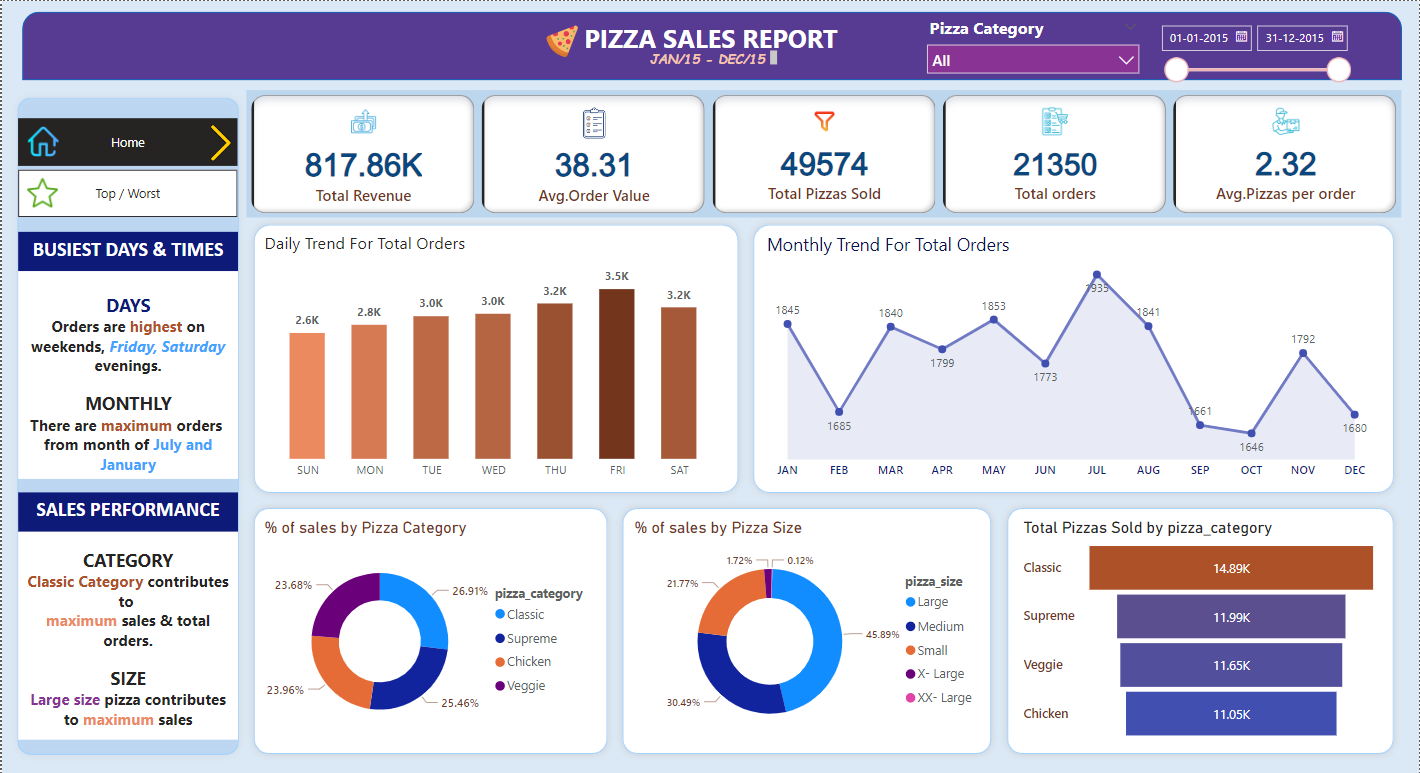

What the dashboard file says about the page in this screenshot:
{"tool":"powerbi","page":{"name":"Home","canvas":[1499,820],"ordinal":0},"visuals":[{"type":"cardVisual","fields":{"Data":["pizza_sales.Total Revenue","pizza_sales.Avg.Order Value","pizza_sales.Total Pizzas Sold","pizza_sales.Total orders","pizza_sales.Avg.Pizzas per order"]},"box":[258.8,93.8,1222.5,135],"z":0},{"type":"shape","box":[21.2,11.2,1460,72.5],"z":1000},{"type":"textbox","box":[591.2,15,317.5,50],"z":2000},{"type":"image","box":[565,20,53.8,45],"z":3000},{"type":"textbox","box":[673.8,47.5,151.2,26.2],"z":4000},{"type":"shape","box":[258.8,228.8,528.8,300],"z":5000},{"type":"columnChart","title":"Daily Trend For Total Orders","fields":{"Category":["pizza_sales.Order Day"],"Y":["pizza_sales.Total orders"]},"box":[272.5,243.8,495,270],"z":6000},{"type":"shape","box":[787.5,228.8,693.8,300],"z":7000},{"type":"areaChart","title":"Monthly Trend For Total Orders","fields":{"Category":["pizza_sales.Order Month"],"Y":["pizza_sales.Total orders"]},"box":[803.8,243.8,653.8,270],"z":8000},{"type":"shape","box":[258.8,528.8,390,276.2],"z":9000},{"type":"shape","box":[648.8,528.8,406.2,276.2],"z":10000},{"type":"shape","box":[1056.2,528.8,425,276.2],"z":11000},{"type":"donutChart","title":"% of sales by Pizza Category","fields":{"Category":["pizza_sales.pizza_category"],"Y":["pizza_sales.Total Revenue"]},"box":[272.5,547.5,362.5,241.2],"z":12000},{"type":"donutChart","title":"% of sales by Pizza Size","fields":{"Category":["pizza_sales.pizza_size"],"Y":["pizza_sales.Total Revenue"]},"box":[665,547.5,376.2,241.2],"z":13000},{"type":"funnel","fields":{"Y":["pizza_sales.Total Pizzas Sold"],"Category":["pizza_sales.pizza_category"]},"box":[1076.2,547.5,385,240],"z":14000},{"type":"shape","box":[8.8,93.8,250,711.2],"z":15000},{"type":"textbox","box":[17.1,285.4,232.7,220.3],"z":16000},{"type":"textbox","box":[17.5,555,232.5,226.2],"z":17000},{"type":"textbox","box":[17.5,243.8,232.5,41.2],"z":18000},{"type":"textbox","box":[17.5,520,232.5,41.2],"z":19000},{"type":"slicer","fields":{"Values":["pizza_sales.pizza_category"]},"box":[968.8,11.2,245,72.5],"z":20000},{"type":"slicer","fields":{"Values":["pizza_sales.order_date"]},"box":[1213.8,15,221.2,91.2],"z":21000},{"type":"pageNavigator","box":[17.5,123.8,232.5,50],"z":22000},{"type":"pageNavigator","box":[17.5,178.8,232.5,50],"z":23000},{"type":"image","box":[206.2,125,52.5,48.8],"z":24000},{"type":"image","box":[21.2,127.5,43.8,42.5],"z":25000},{"type":"image","box":[21.2,178.8,42.5,48.8],"z":26000}]}

Visuals, with their boxes in screenshot pixels (x1, y1, x2, y2), scaled from the page's 1499x820 canvas onto the 1420x773 screenshot:
cardVisual - pizza_sales.Total Revenue x pizza_sales.Avg.Order Value: BBox(245, 88, 1403, 216)
shape: BBox(20, 11, 1403, 79)
textbox: BBox(560, 14, 861, 61)
image: BBox(535, 19, 586, 61)
textbox: BBox(638, 45, 782, 69)
shape: BBox(245, 216, 746, 498)
"Daily Trend For Total Orders" columnChart: BBox(258, 230, 727, 484)
shape: BBox(746, 216, 1403, 498)
"Monthly Trend For Total Orders" areaChart: BBox(761, 230, 1381, 484)
shape: BBox(245, 498, 615, 759)
shape: BBox(615, 498, 999, 759)
shape: BBox(1001, 498, 1403, 759)
"% of sales by Pizza Category" donutChart: BBox(258, 516, 602, 743)
"% of sales by Pizza Size" donutChart: BBox(630, 516, 986, 743)
funnel - pizza_sales.Total Pizzas Sold x pizza_sales.pizza_category: BBox(1019, 516, 1384, 742)
shape: BBox(8, 88, 245, 759)
textbox: BBox(16, 269, 237, 477)
textbox: BBox(17, 523, 237, 736)
textbox: BBox(17, 230, 237, 269)
textbox: BBox(17, 490, 237, 529)
slicer - pizza_sales.pizza_category: BBox(918, 11, 1150, 79)
slicer - pizza_sales.order_date: BBox(1150, 14, 1359, 100)
pageNavigator: BBox(17, 117, 237, 164)
pageNavigator: BBox(17, 169, 237, 216)
image: BBox(195, 118, 245, 164)
image: BBox(20, 120, 62, 160)
image: BBox(20, 169, 60, 215)
